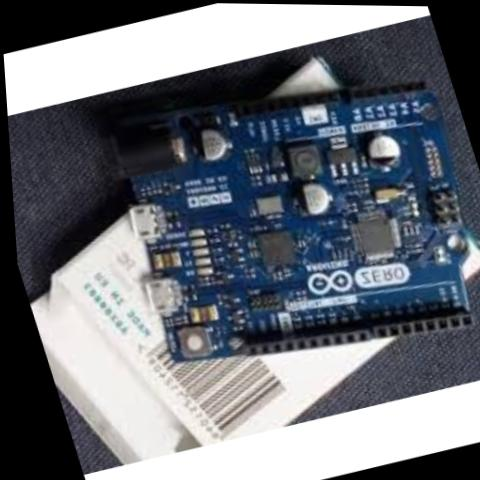Arduino-Zero: (54, 26, 480, 411)
